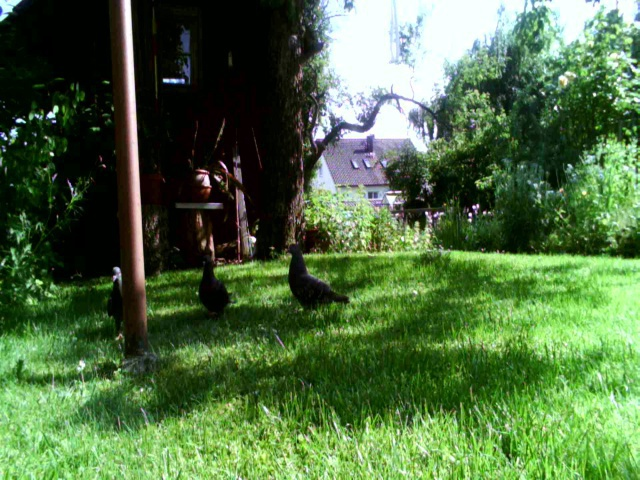Pigeon: (279, 241, 348, 314), (195, 256, 237, 314), (96, 264, 128, 329)
